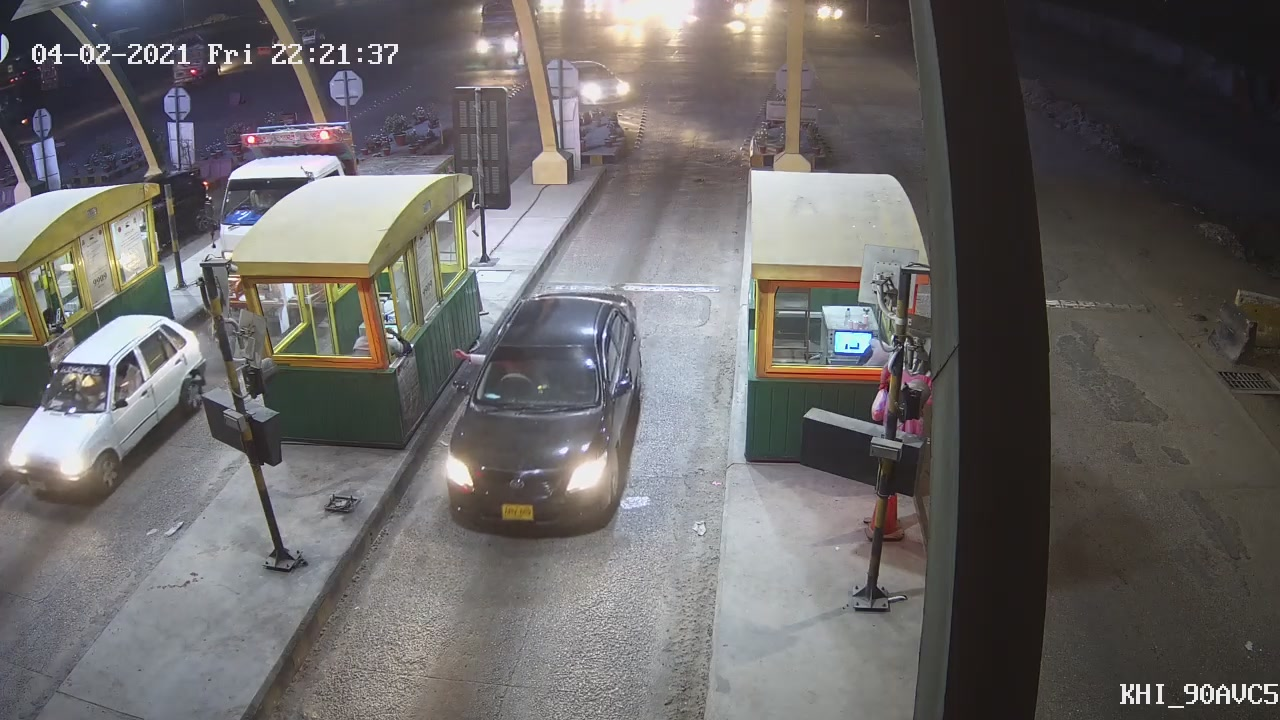F1: (440, 285, 645, 544)
